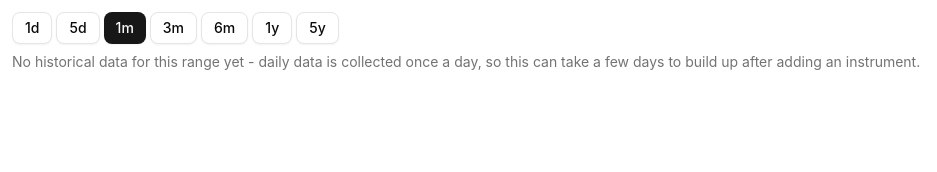
Test: PriceHistory › shows a different empty-state message for an intraday-backed range
expect the text "daily data is collected once a day" is shown: met, box [12,53,920,70]
What coordinates should you click on to do the following:
click the button "1d"
I would click on:
 (32, 28)
Its box is [12,12,52,44].
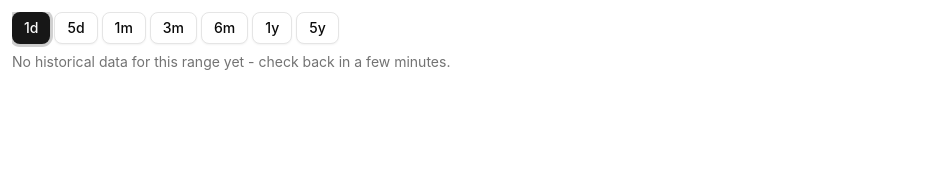
expect the text "check back in a few minutes" is shown: met, box [12,53,450,70]
